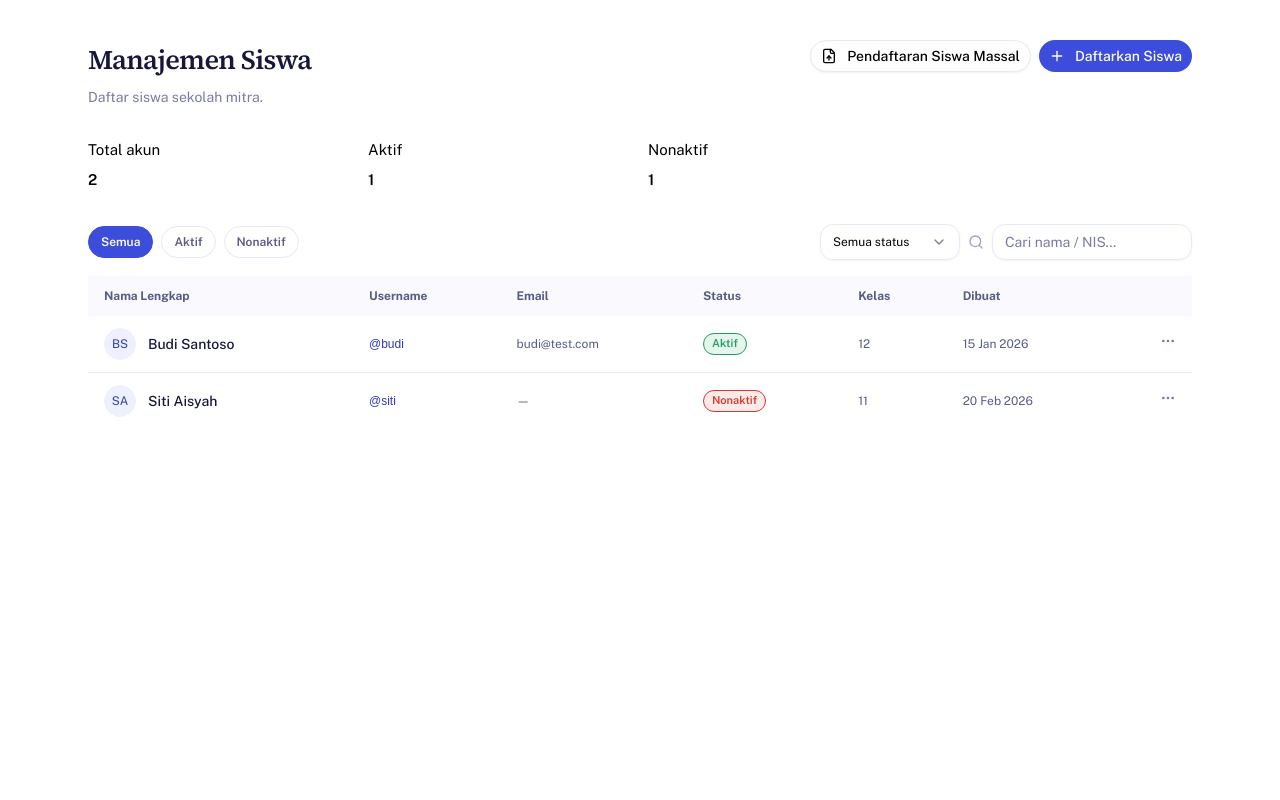
Test case: SchoolStudentsPage › opens the bulk import modal from the header button
Check: the text "Budi Santoso" is shown, box [148,334,234,354]
Click the button "Pendaftaran Siswa Massal" at (921, 56), box [810,40,1031,72]
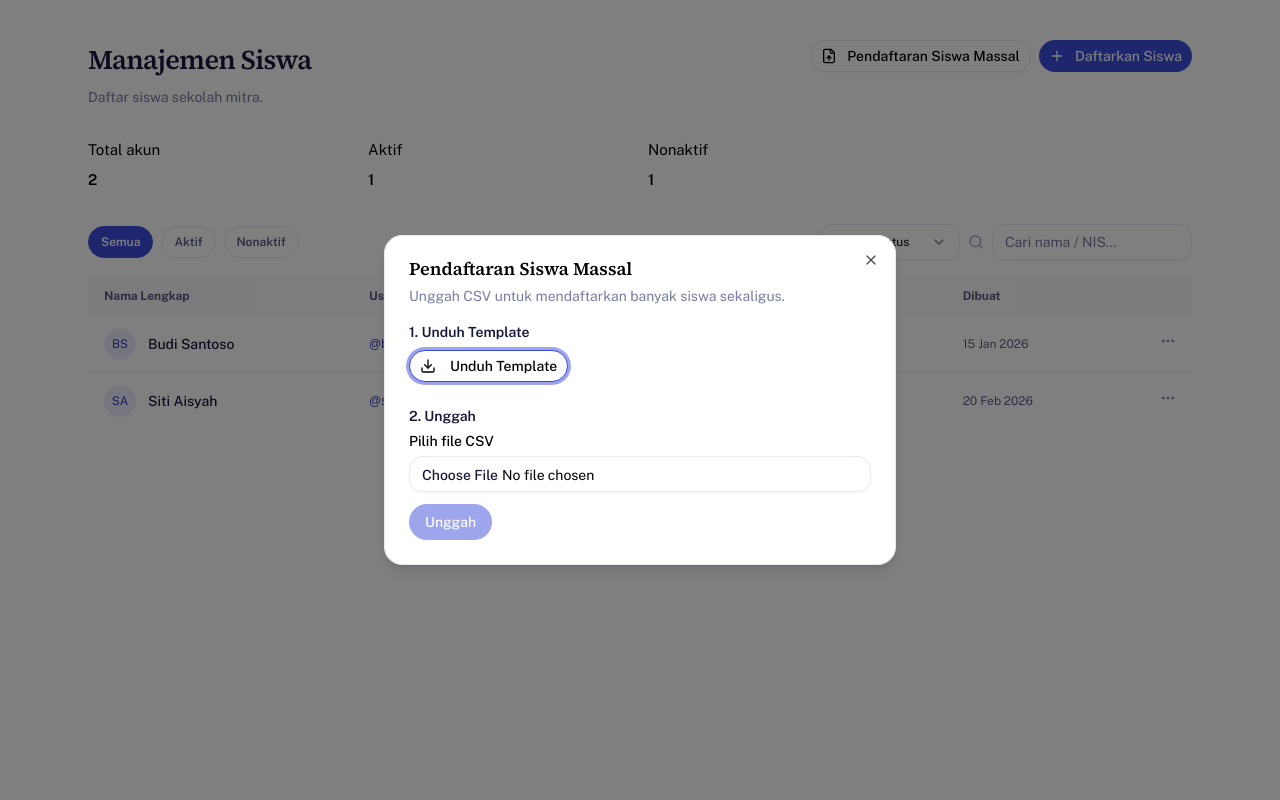
Check: the dialog is shown, box [384,235,896,565]
Check: the button "Unduh Template" is shown, box [409,350,568,382]
